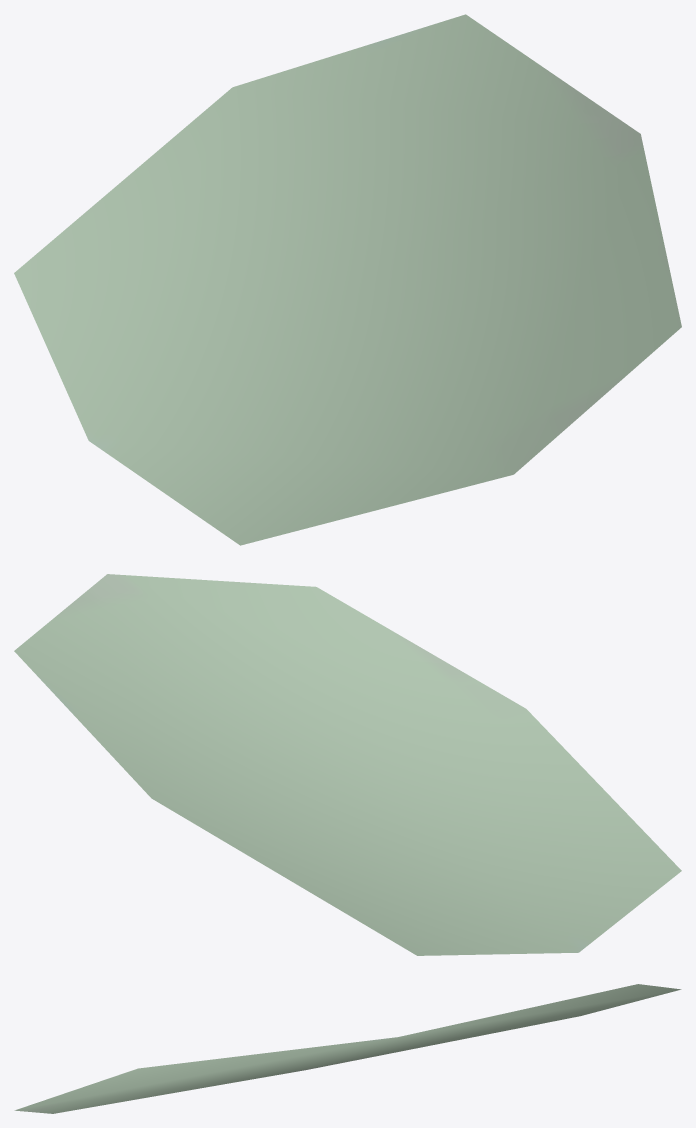
The model's file is TROLLHOLE02_HOLECAP79.fbx.
3 renders of one model, top to bottom at view 1: azimuth 30°, elevation 25°; view 2: azimuth 150°, elevation 25°; view 3: azimuth 270°, elevation 25°, orthographic. The views are drawn at different scales.
Visible parts, largest first — view 1: TROLLHOLE02_HOLECAP79; view 2: TROLLHOLE02_HOLECAP79; view 3: TROLLHOLE02_HOLECAP79.
Part boxes in pixels (x1,y1,x2,y2): TROLLHOLE02_HOLECAP79: [14, 14, 681, 545]; TROLLHOLE02_HOLECAP79: [14, 574, 681, 955]; TROLLHOLE02_HOLECAP79: [14, 984, 681, 1113].
Size of the model in its own units: 10616 by 5318 by 11766.
Materials: 1 (1 with a texture image).
